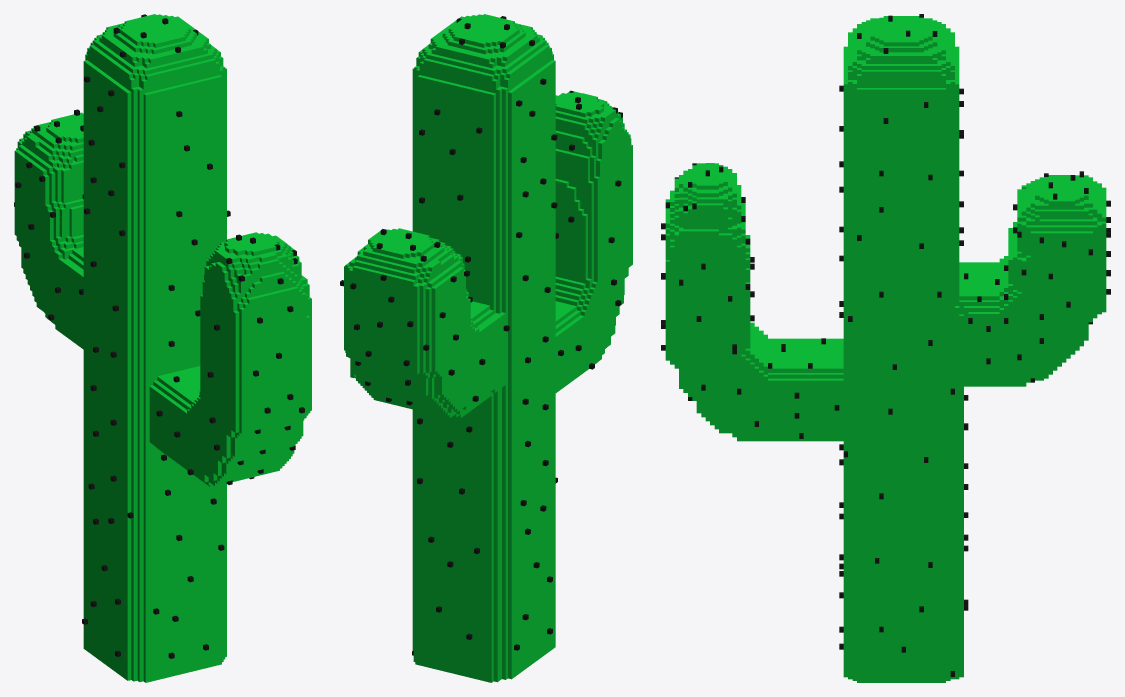
File: cactus.glb
3 renders of one model, left to right at view 1: azimuth 30°, elevation 25°; view 2: azimuth 150°, elevation 25°; view 3: azimuth 270°, elevation 25°, orthographic.
Parts seen in each view (by area): view 1: Node1; view 2: Node1; view 3: Node1.
Boxes of the visible parts, <box> form: Node1: <box>14,14,311,682</box>; Node1: <box>340,14,632,682</box>; Node1: <box>661,14,1110,682</box>.
Bounding box in the file's own units: 2.8 × 15.7 × 10.1.
1 material, 1 textured.
